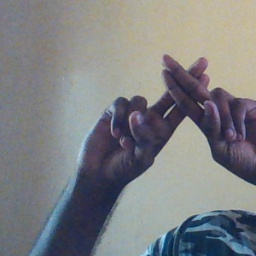F: (126, 39, 249, 154)
